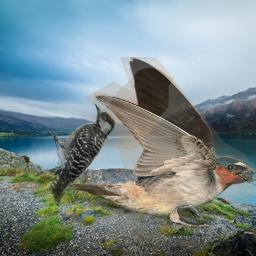Swallow: (67, 57, 255, 229)
Woodpecker: (49, 99, 115, 206)
